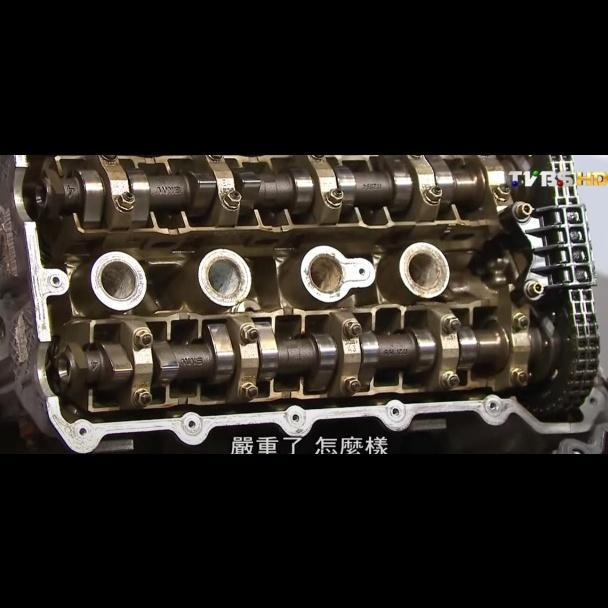hole: (51, 275, 60, 287), (78, 427, 87, 437), (291, 414, 301, 423), (391, 407, 400, 417), (489, 402, 498, 411), (188, 421, 196, 429)
